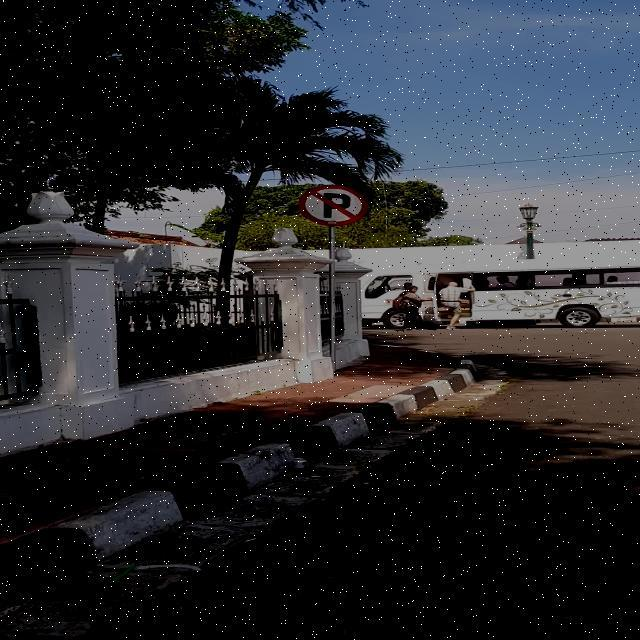Dilarang Parkir: (298, 184, 368, 227)
